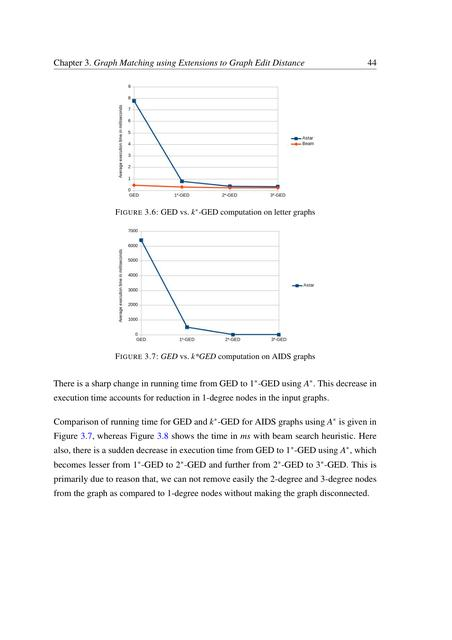box: (112, 81, 320, 219), (114, 226, 324, 362)
